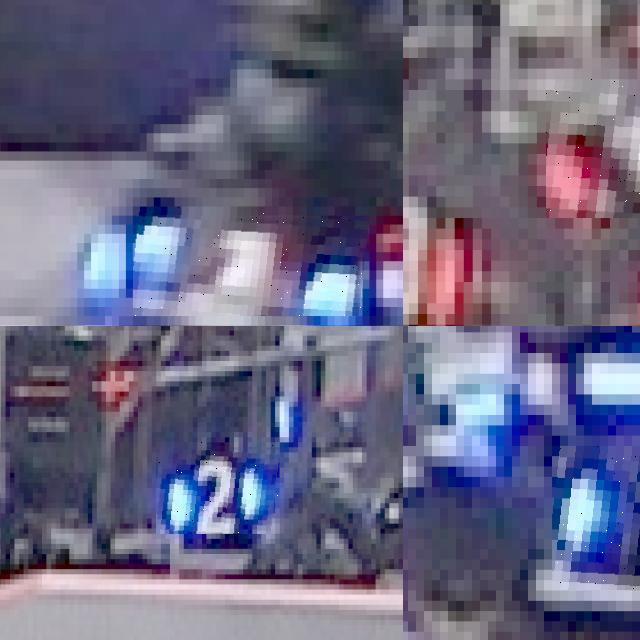B1: (133, 207, 369, 316), (552, 445, 640, 590)
B2: (156, 442, 280, 534)
R3: (545, 79, 640, 217), (403, 175, 472, 326)
